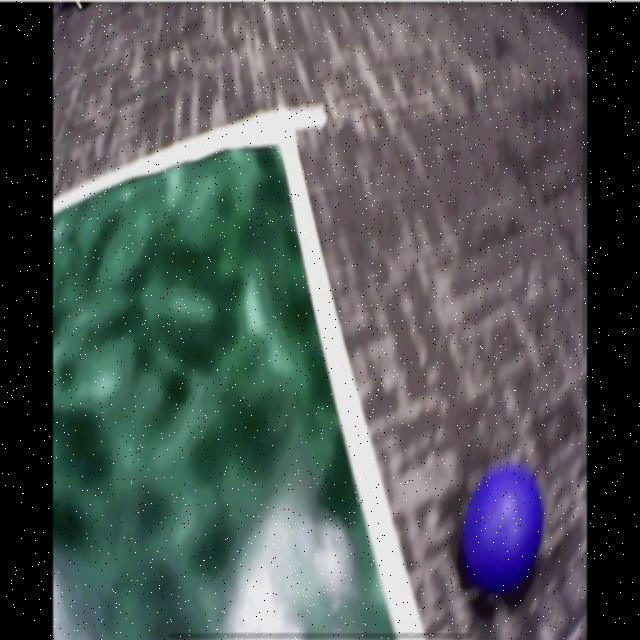ball: (466, 472, 545, 589)
